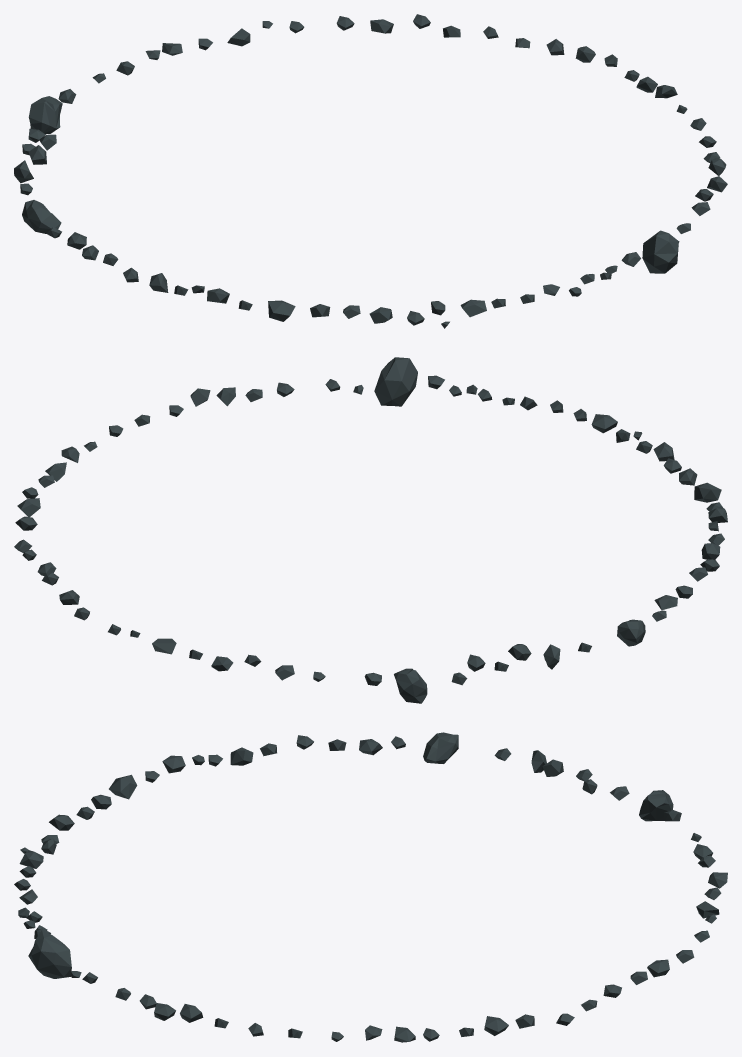
The model's file is Broken_Planet_Rings_03_LOD0.fbx.
The picture shows the model from 3 angles, top to bottom: view 1: azimuth 30°, elevation 25°; view 2: azimuth 150°, elevation 25°; view 3: azimuth 270°, elevation 25°; orthographic projection.
Visible parts, largest first — view 1: Broken_Planet_Rings_03_LOD0; view 2: Broken_Planet_Rings_03_LOD0; view 3: Broken_Planet_Rings_03_LOD0.
Part boxes in pixels (x1,y1,x2,y2): Broken_Planet_Rings_03_LOD0: (14,14,727,328); Broken_Planet_Rings_03_LOD0: (14,357,727,703); Broken_Planet_Rings_03_LOD0: (14,732,727,1042).
Size of the model in its own units: 41459 by 2774 by 41318.
